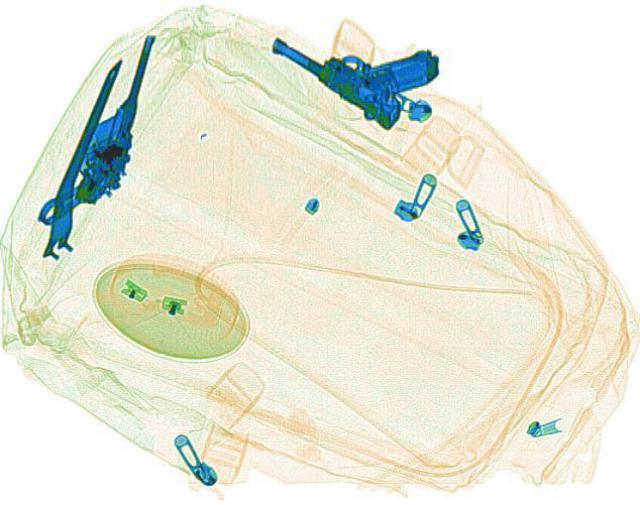Gun: (36, 26, 162, 231), (258, 0, 448, 132)
